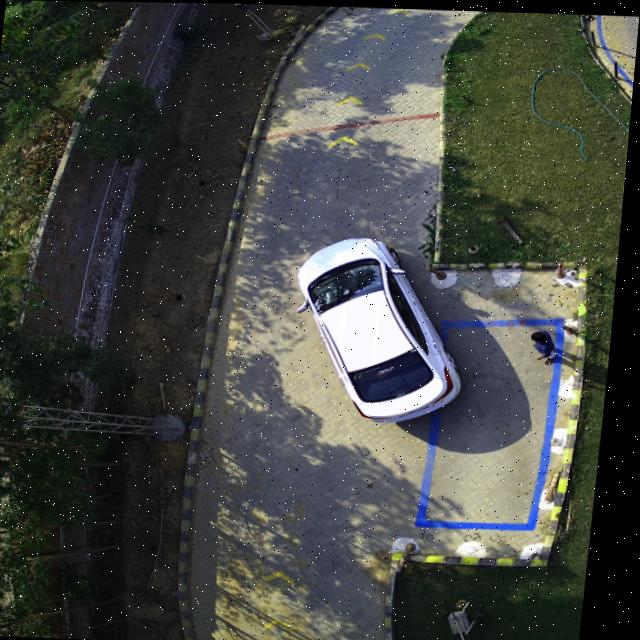car: (303, 235, 468, 420)
